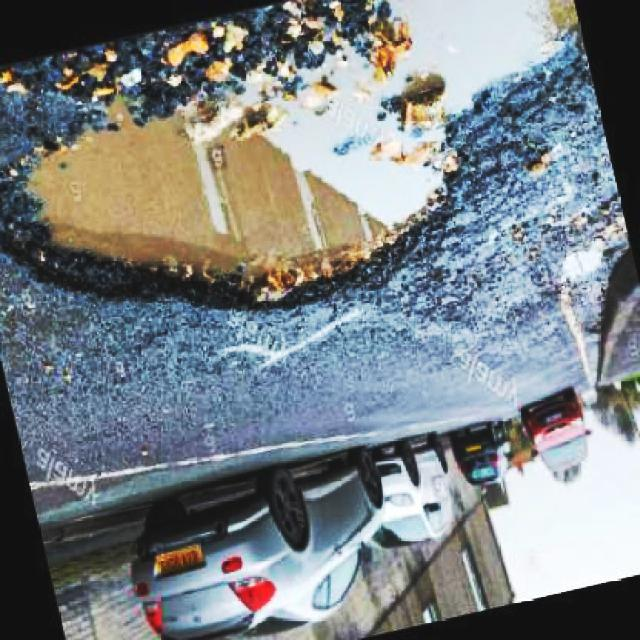pothole: (0, 0, 598, 312), (558, 188, 636, 292)
